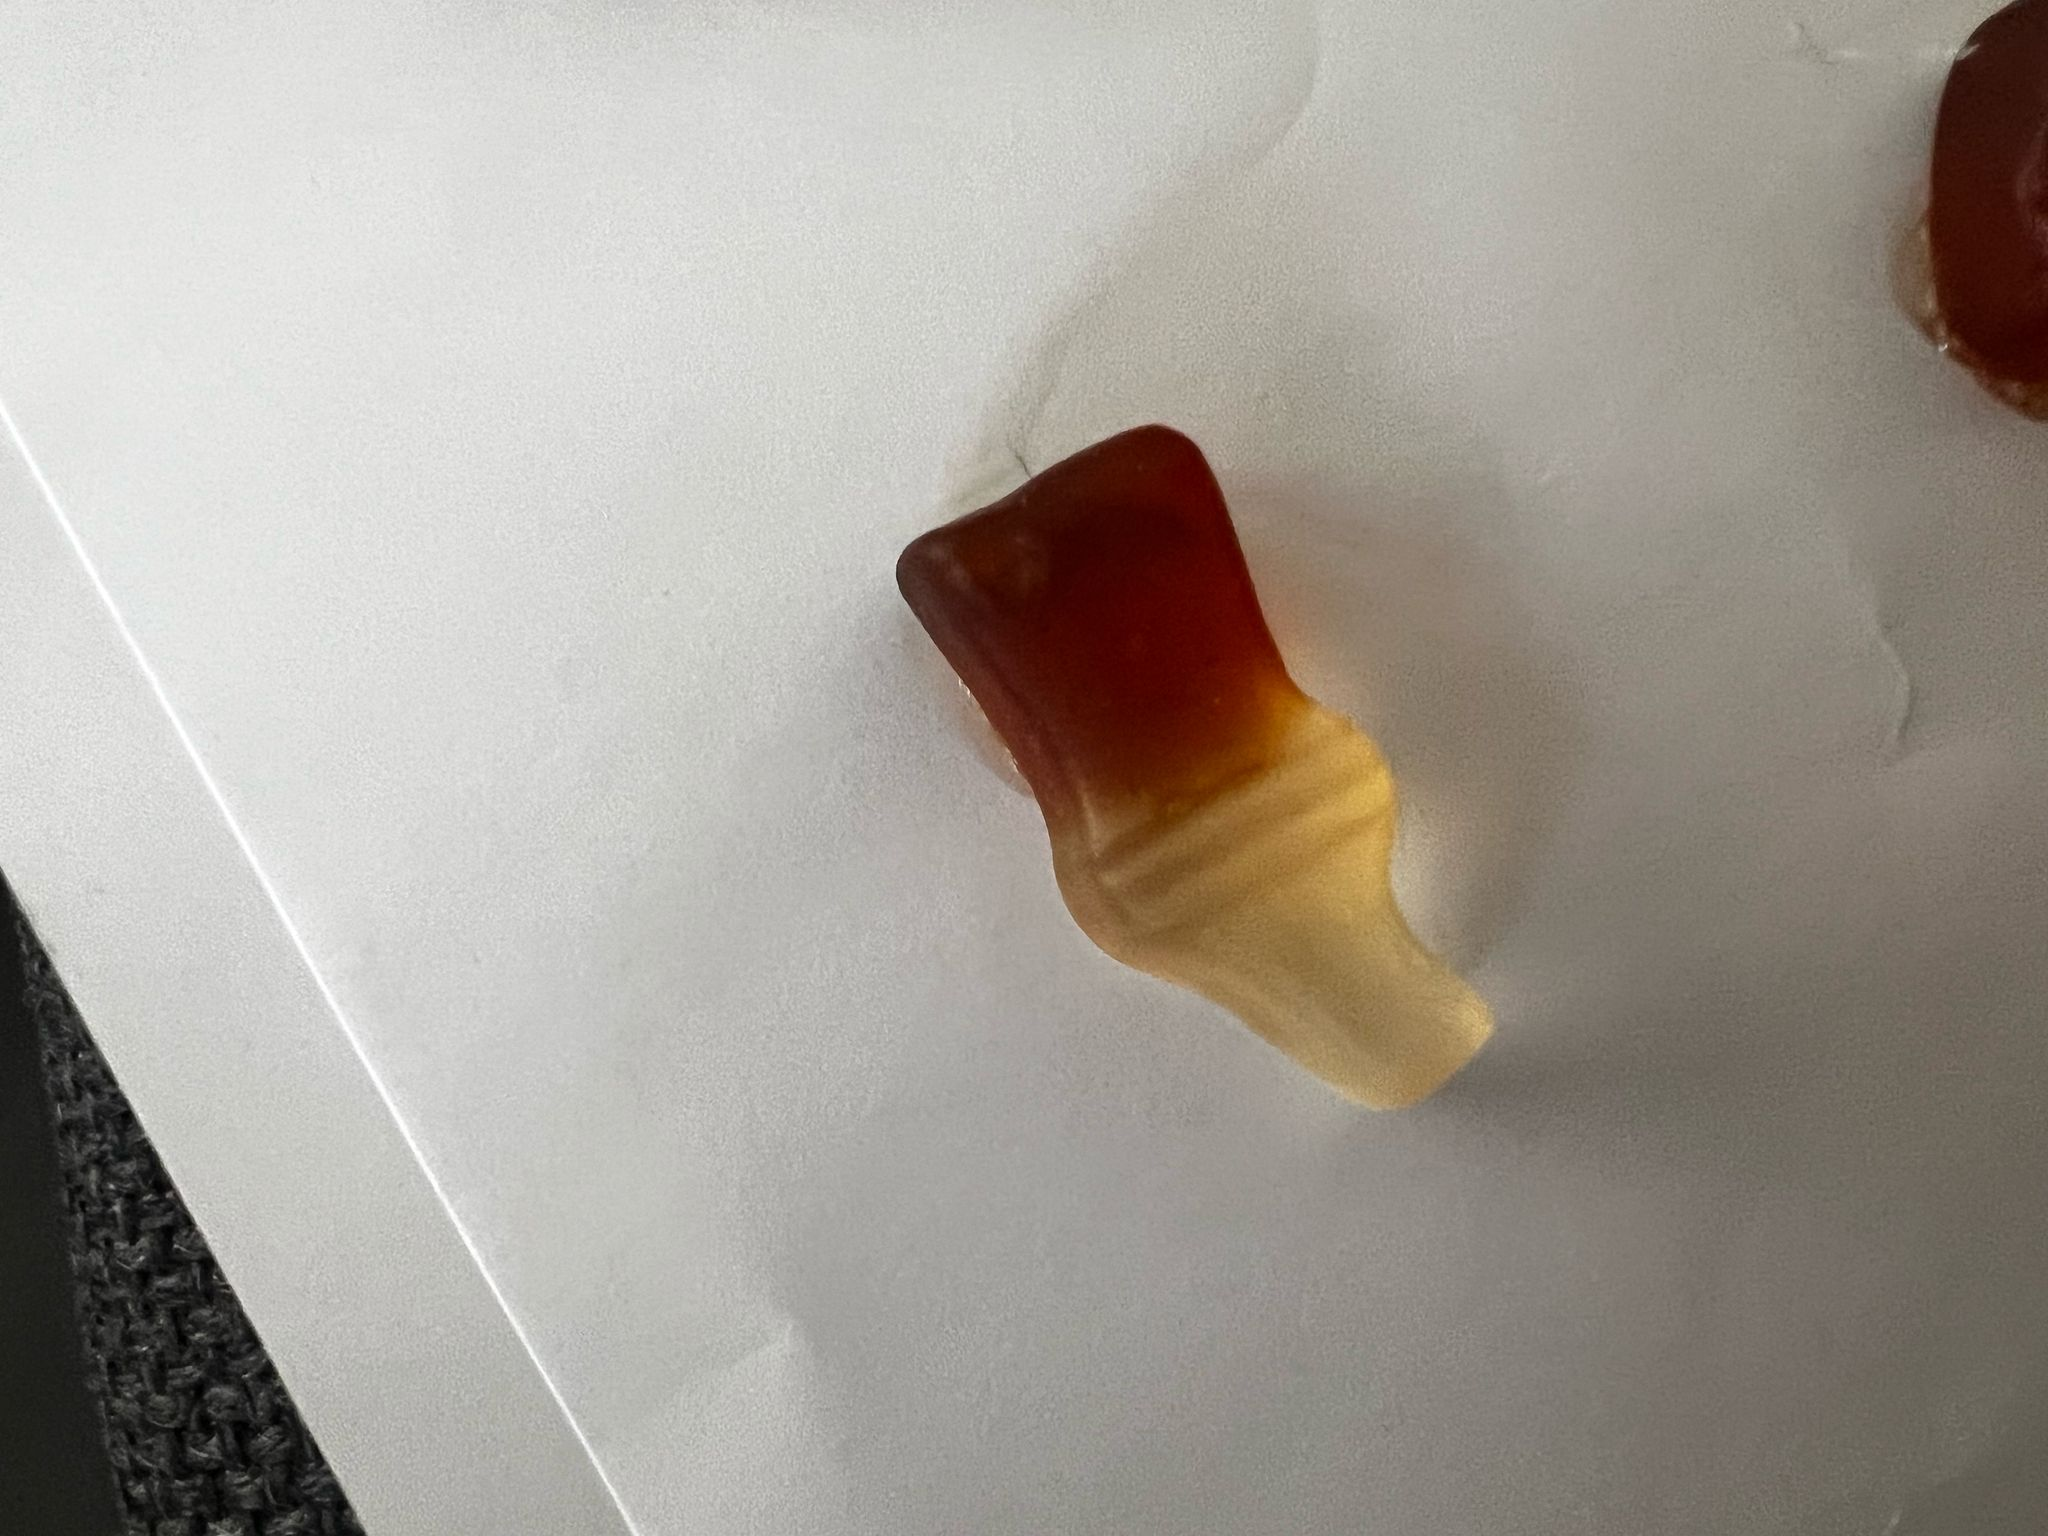cola: (872, 388, 1520, 1127)
